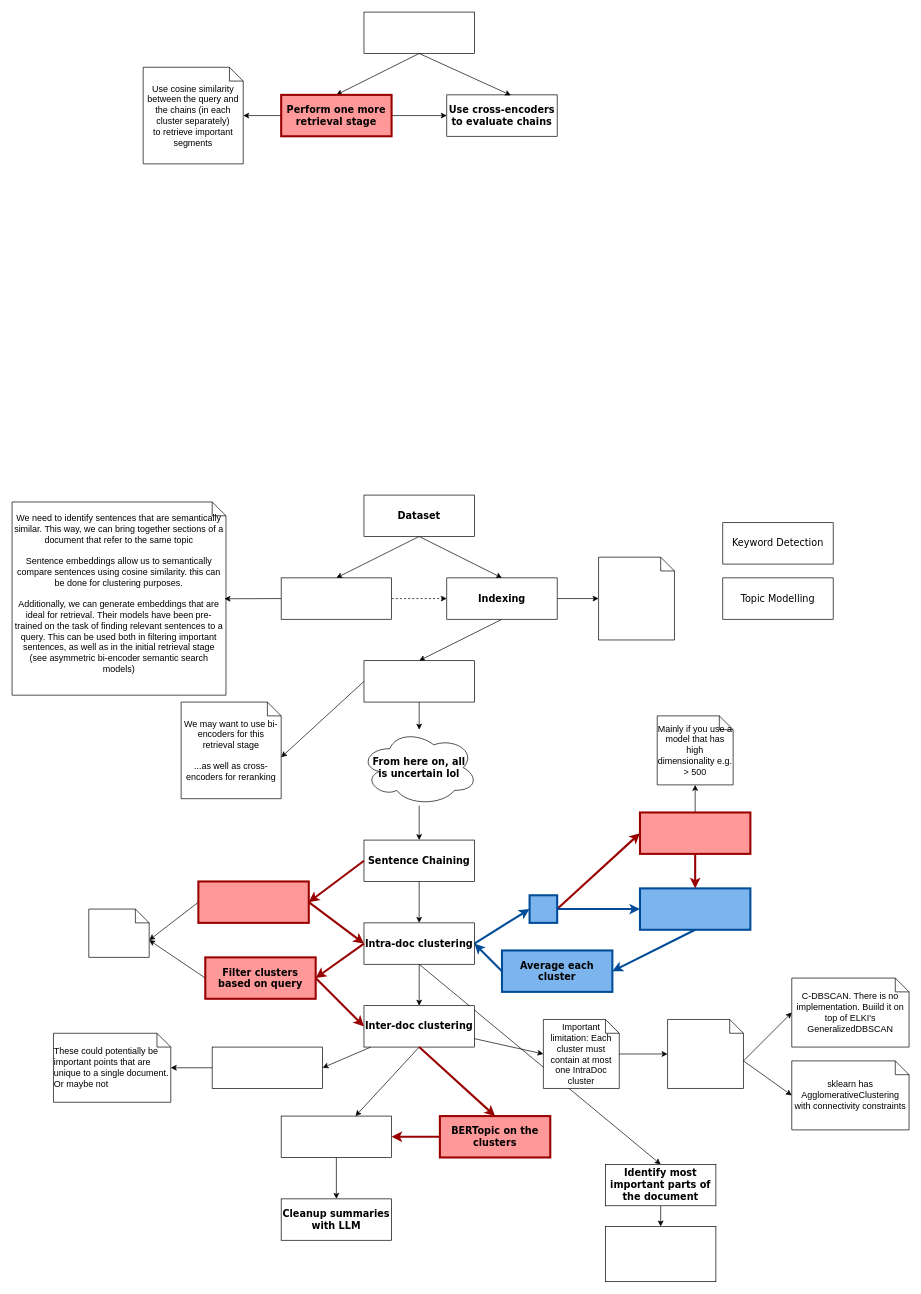
The diagram is 921 pixels wide and 1294 high, and some of its shapes have lost their labels. The centre of each missing label's shape, as x and y in pixels:
"Constrained Clustering with a cannot-link constraint" belongs at [705,1053].
"Create a vector representation for bi-encoder semantic search" belongs at [660,1254].
"Dimensionality Reduction with UMAP" belongs at [695,833].
"Embeddings" belongs at [336,598].
"Filter chains based on query" belongs at [253,902].
"HDBSCAN (flat)" belongs at [695,908].
"Identified similar clusters to query" belongs at [418,32].
"Identify Outliers" belongs at [267,1067].
"Indexing may also use Elasticsearch's capability of storing vectors" belongs at [636,598].
"Retrieval" belongs at [418,681].
"Summarize each cluster" belongs at [336,1136].
"Using a cross encoder" belongs at [118,932].
